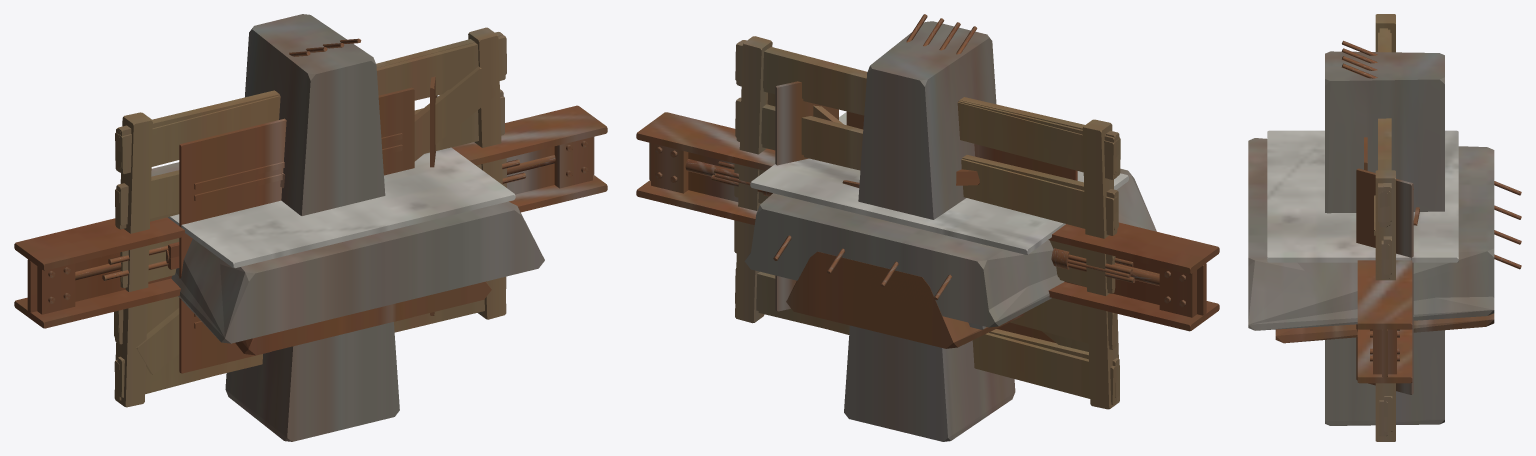
Rendered from propsDebris.glb.
3 renders of one model, left to right at view 1: azimuth 30°, elevation 25°; view 2: azimuth 150°, elevation 25°; view 3: azimuth 270°, elevation 25°, orthographic. The views are drawn at different scales.
Parts seen in each view (by area): view 1: chunk_0, concreteSlab_lod1_v0, iBeam_lod0_v0, chunk_4, concreteSlab_lod0_v0, metalPanel_lod0_v0, barricadeWood_lod1_v0, brokenPillar_lod0_v0, barricadeWood_lod1_v1, barricadeWood_lod0_v0, chunk_5, scrapHeap_lod0_v0 (+12 smaller); view 2: chunk_0, iBeam_lod0_v0, barricadeWood_lod0_v1, barricadeWood_lod0_v0, brokenPillar_lod0_v0, barricadeWood_lod1_v0, chunk_4, scrapHeap_lod0_v0, concreteSlab_lod1_v0, barricadeWood_lod1_v1, concreteSlab_lod0_v0, concreteSlab_lod1_v1 (+11 smaller); view 3: concreteSlab_lod0_v0, chunk_4, brokenPillar_lod0_v0, concreteSlab_lod0_v1, brokenPillar_lod1_v0, iBeam_lod0_v0, concreteSlab_lod1_v1, metalPanel_lod0_v0, chunk_0, chunk_3 (×2), barricadeWood_lod0_v0, brokenPillar_lod0_v1 (+6 smaller).
Part boxes in pixels (x1,y1,x2,y2): chunk_0: (246,28,399,441); concreteSlab_lod1_v0: (222,207,544,343); iBeam_lod0_v0: (14,105,607,328); chunk_4: (163,147,515,342); concreteSlab_lod0_v0: (161,148,525,342); metalPanel_lod0_v0: (179,76,437,373); barricadeWood_lod1_v0: (114,36,506,407); brokenPillar_lod0_v0: (225,14,373,423); barricadeWood_lod1_v1: (114,28,506,399); barricadeWood_lod0_v0: (114,32,506,406); chunk_5: (117,66,506,397); scrapHeap_lod0_v0: (235,173,491,354); chunk_0: (844,66,1015,441); iBeam_lod0_v0: (636,112,1219,331); barricadeWood_lod0_v1: (734,36,1118,404); barricadeWood_lod0_v0: (735,41,1119,408); brokenPillar_lod0_v0: (870,14,992,441); barricadeWood_lod1_v0: (735,42,1119,409); chunk_4: (747,114,1143,322); scrapHeap_lod0_v0: (786,171,990,348); concreteSlab_lod1_v0: (744,172,1155,327); barricadeWood_lod1_v1: (734,36,1120,404); concreteSlab_lod0_v0: (751,112,1156,299); concreteSlab_lod1_v1: (749,205,1057,322); concreteSlab_lod0_v0: (1248,130,1521,330); chunk_4: (1248,130,1494,330); brokenPillar_lod0_v0: (1325,40,1444,425); concreteSlab_lod0_v1: (1248,139,1494,324); brokenPillar_lod1_v0: (1325,41,1439,213); iBeam_lod0_v0: (1357,260,1412,383); concreteSlab_lod1_v1: (1283,248,1494,319); metalPanel_lod0_v0: (1356,137,1413,394); chunk_0: (1325,77,1444,425); chunk_3 (×2): (1275,170,1494,441); barricadeWood_lod0_v0: (1374,23,1395,441); brokenPillar_lod0_v1: (1325,52,1444,425).
Size of what is drawn, in the model's own units: 2.2 by 1.41 by 1.
1 material, 1 textured.
